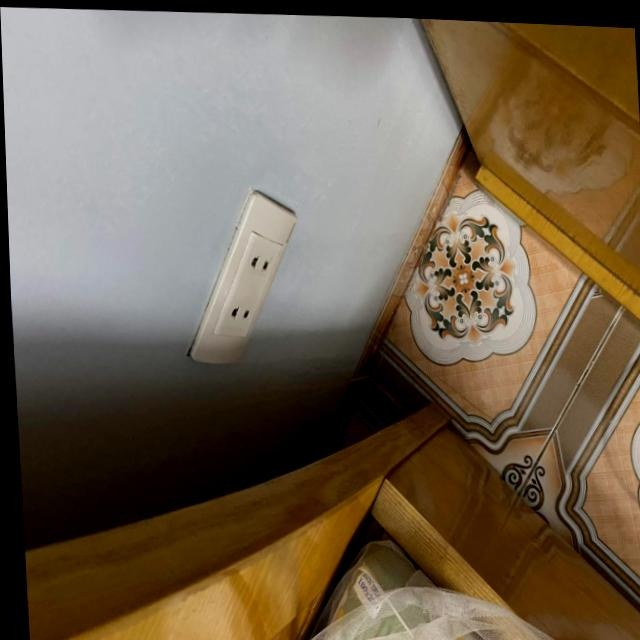outlet: (178, 185, 305, 368)
